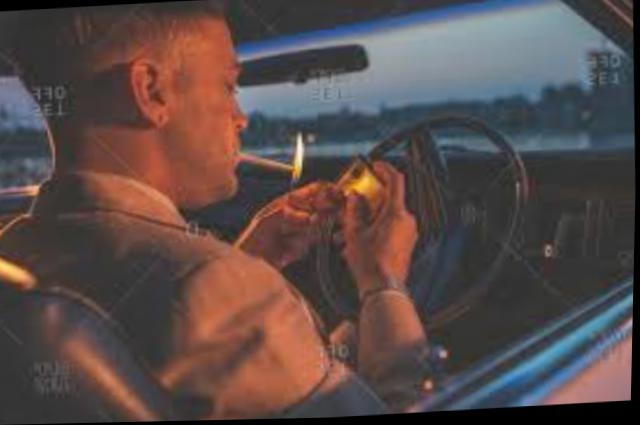fire: (285, 125, 313, 181)
